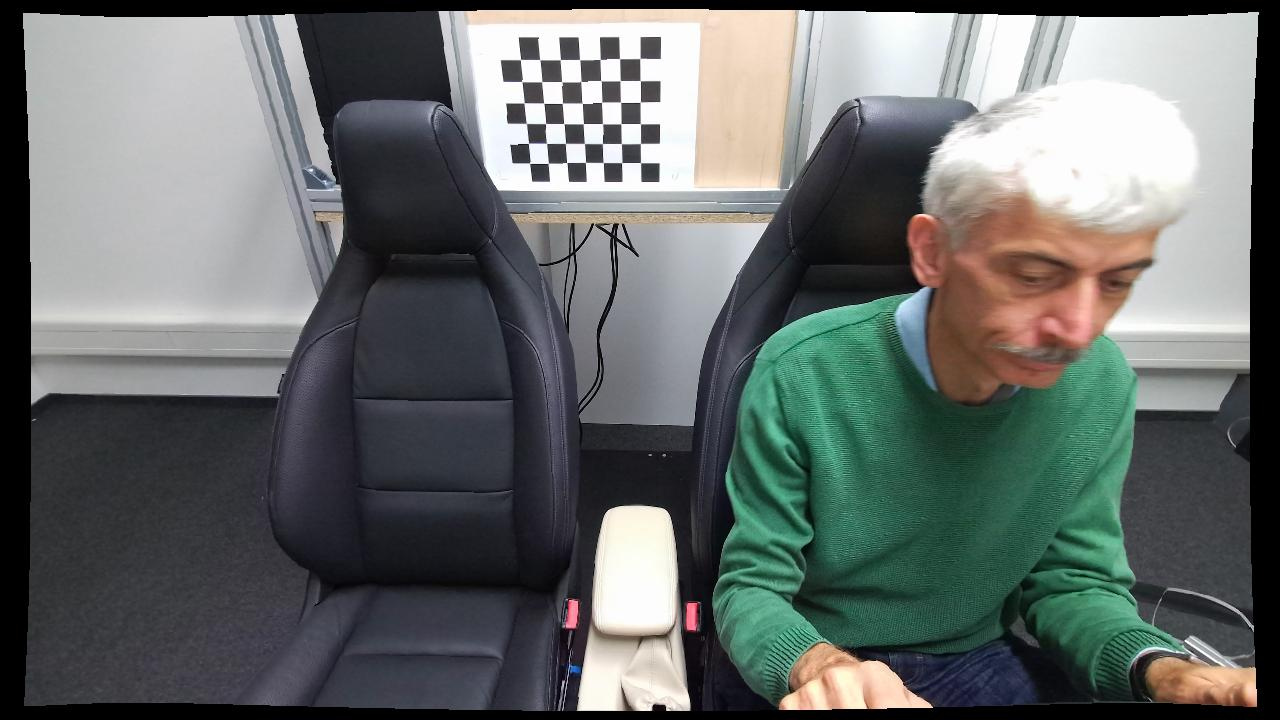SafeDriving: (708, 80, 1248, 717)
